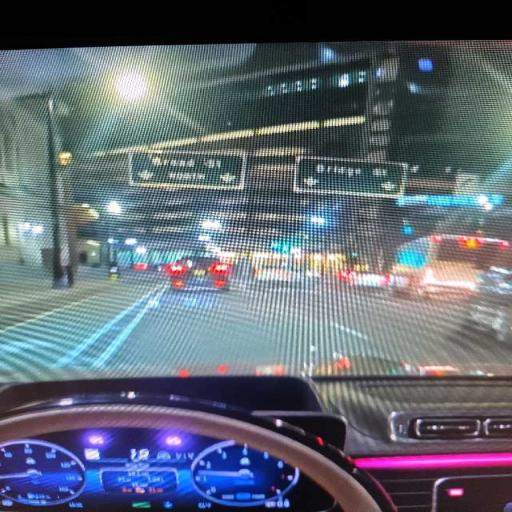car: (0, 40, 511, 511), (464, 267, 511, 342), (165, 255, 231, 290), (253, 261, 320, 284)
lane: (0, 280, 511, 379), (0, 282, 161, 380)
